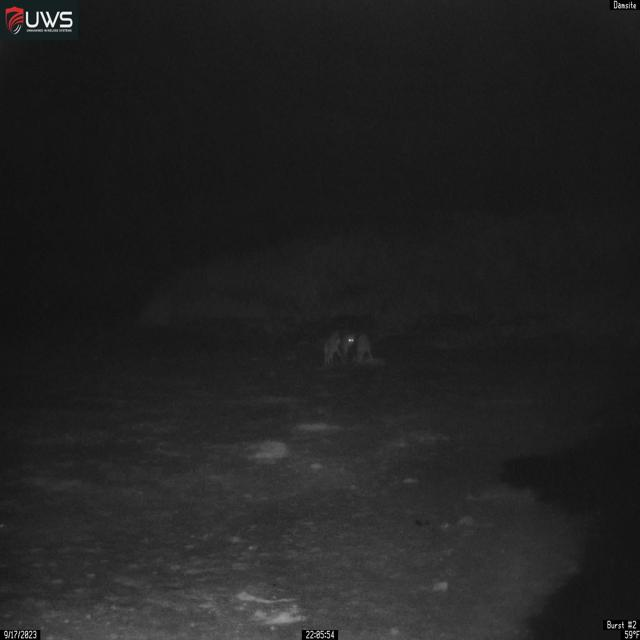coyote: (322, 330, 353, 368)
